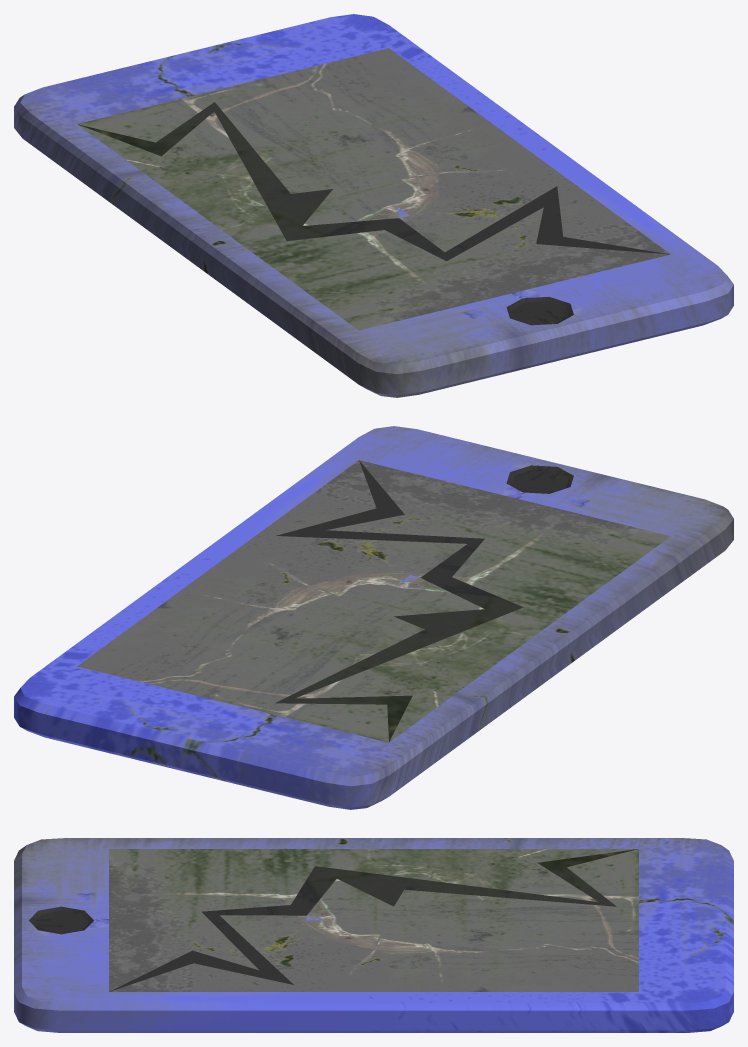
File: phone2.fbx
The picture shows the model from 3 angles, top to bottom: view 1: azimuth 30°, elevation 25°; view 2: azimuth 150°, elevation 25°; view 3: azimuth 270°, elevation 25°; orthographic projection. The views are drawn at different scales.
Parts seen in each view (by area): view 1: phone2; view 2: phone2; view 3: phone2.
Boxes of the visible parts, left/top/right/bottom form: phone2: left=14, top=14, right=733, bottom=397; phone2: left=14, top=426, right=733, bottom=809; phone2: left=14, top=838, right=733, bottom=1032.
Bounding box in the file's own units: 0.0827 × 0.00727 × 0.1496.
